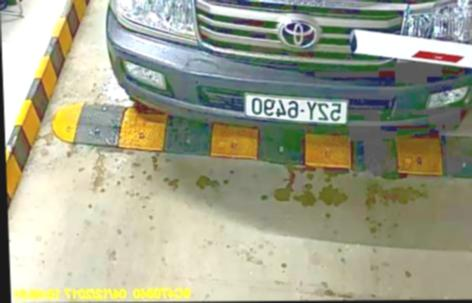License_Plate: (243, 95, 350, 127)
